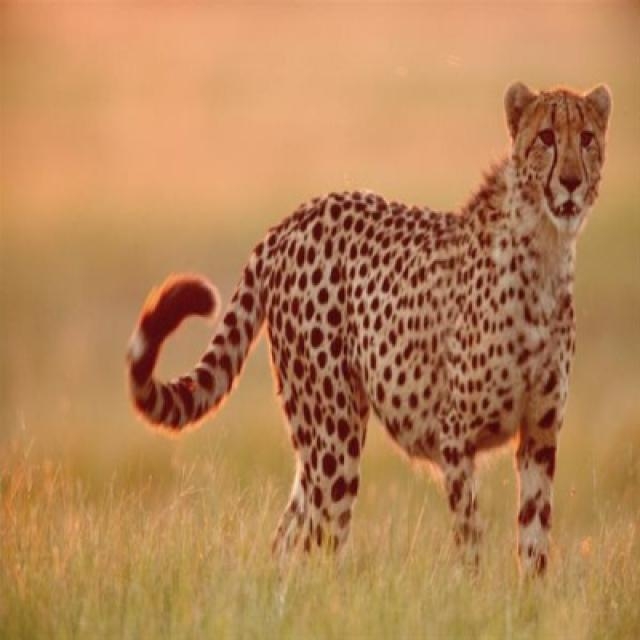Cheetah: (114, 83, 614, 593)
